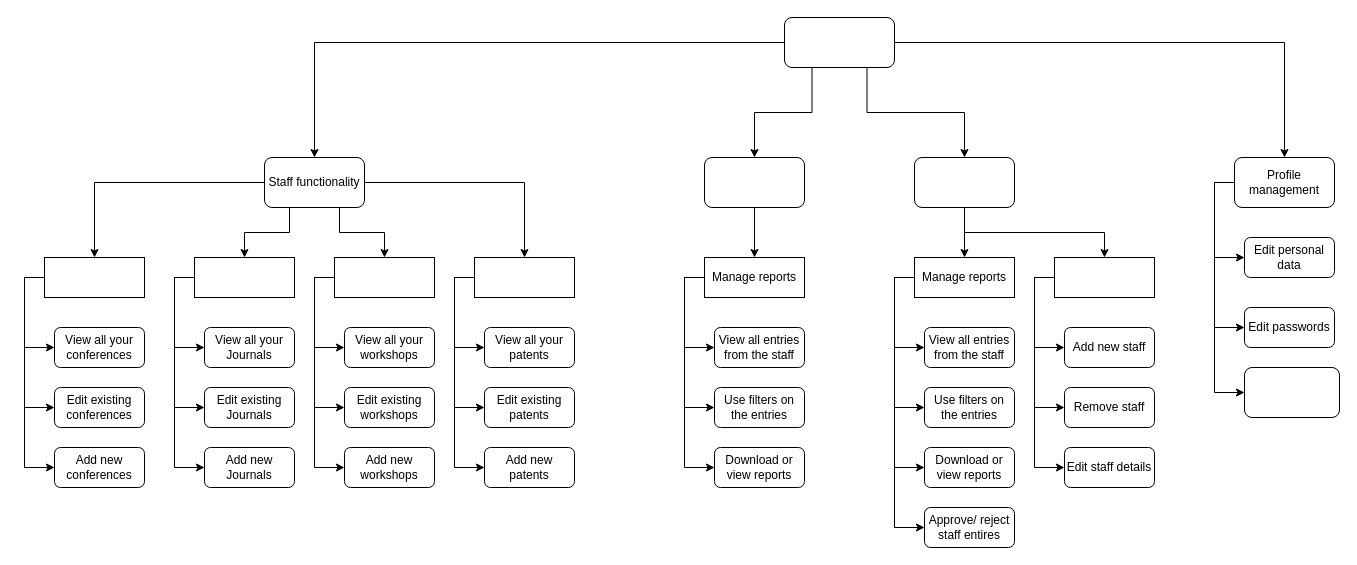
Some shapes in this 1357 by 565 pixel diagram are drawn without their labels. Here are the shapes that lost their labels. From the top down, the centre of each, then its label:
[839,42]: Milestone Monitor
[754,182]: Editor functionality
[964,182]: Head of Department functionality
[94,277]: Manage your Conferences
[244,277]: Manage your Journals
[384,277]: Manage your Workshops
[524,277]: Manage your Patents
[1104,277]: Staff management
[1292,392]: Authentication and Authorization
